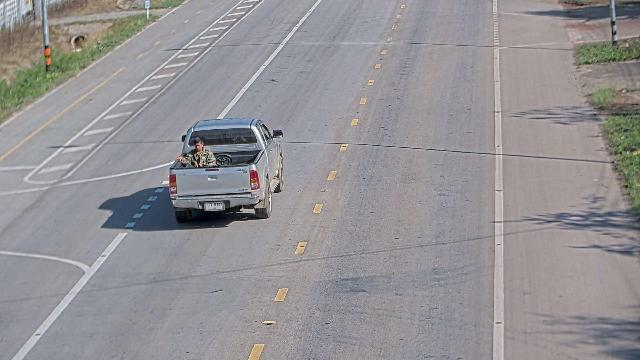pickup-truck: (167, 117, 284, 223)
